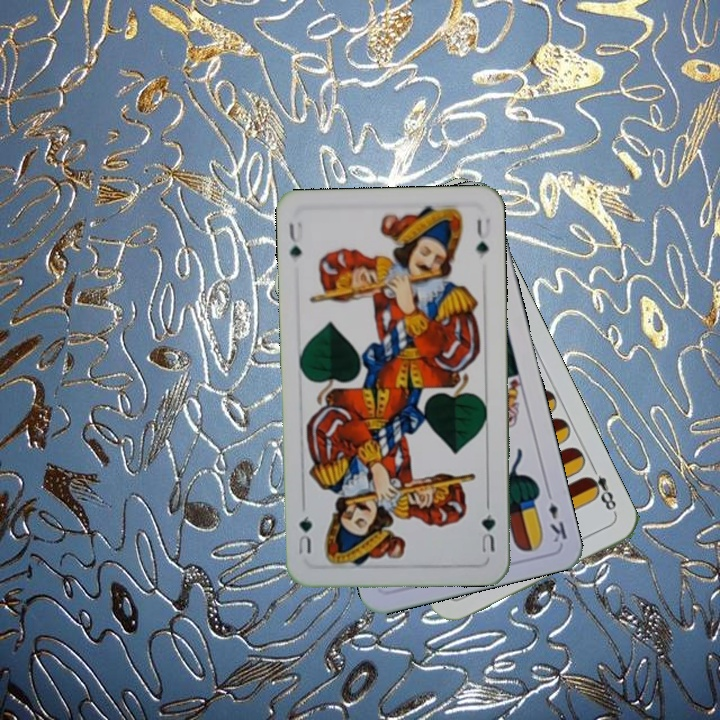E8: (581, 461, 619, 517)
EK: (542, 486, 570, 545)
GU: (477, 500, 498, 555), (285, 218, 306, 261)
